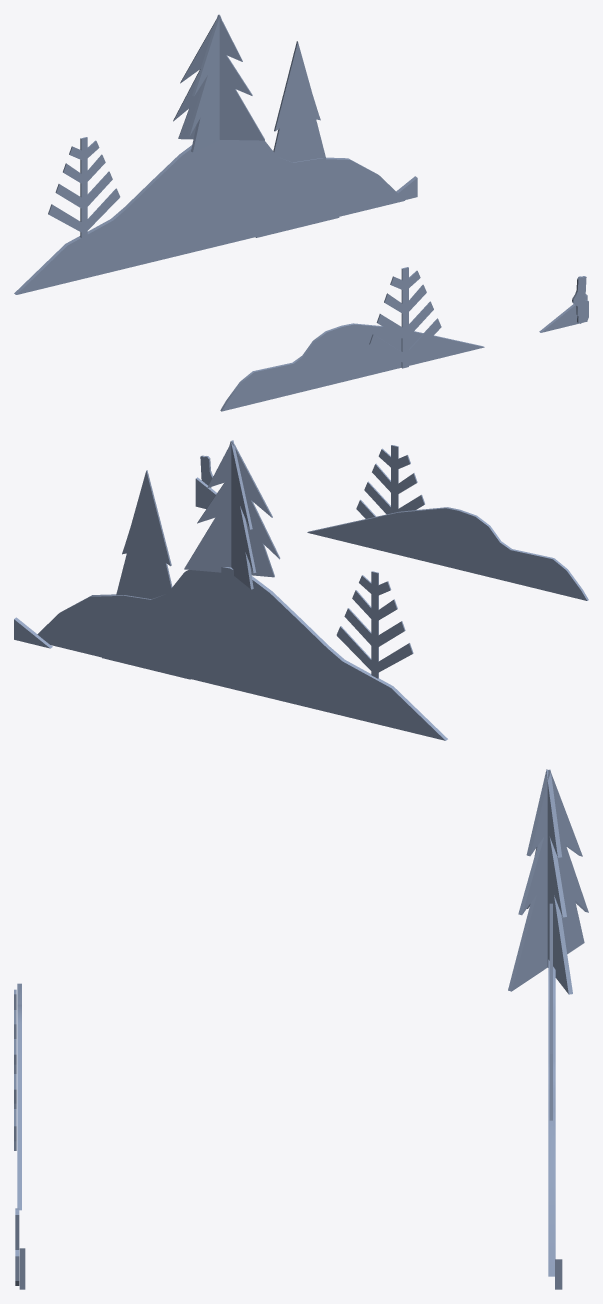
Rendered from frame_0216.glb.
3 views of the same model, one above another, from view 1: azimuth 30°, elevation 25°; view 2: azimuth 150°, elevation 25°; view 3: azimuth 270°, elevation 25° (orthographic). The views are drawn at different scales.
Parts seen in each view (by area): view 1: export_trees_001.002; view 2: export_trees_001.002; view 3: export_trees_001.002.
Boxes of the visible parts, x1,y1,x2,y2 form: export_trees_001.002: (14,14,588,411); export_trees_001.002: (14,440,588,740); export_trees_001.002: (14,769,588,1289).
Size of the model in its own units: 0.4233 by 0.2333 by 0.3323.
